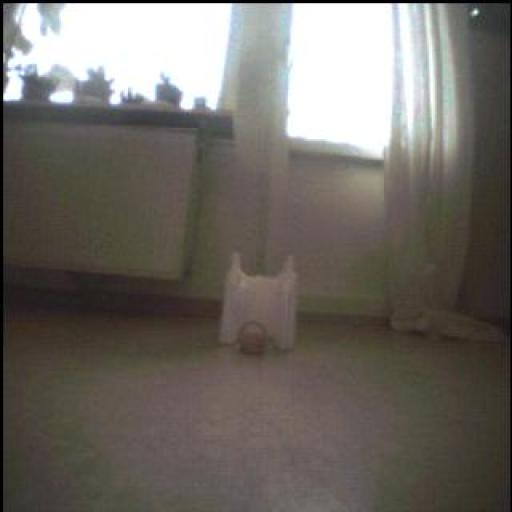Basket: (238, 321, 270, 356)
